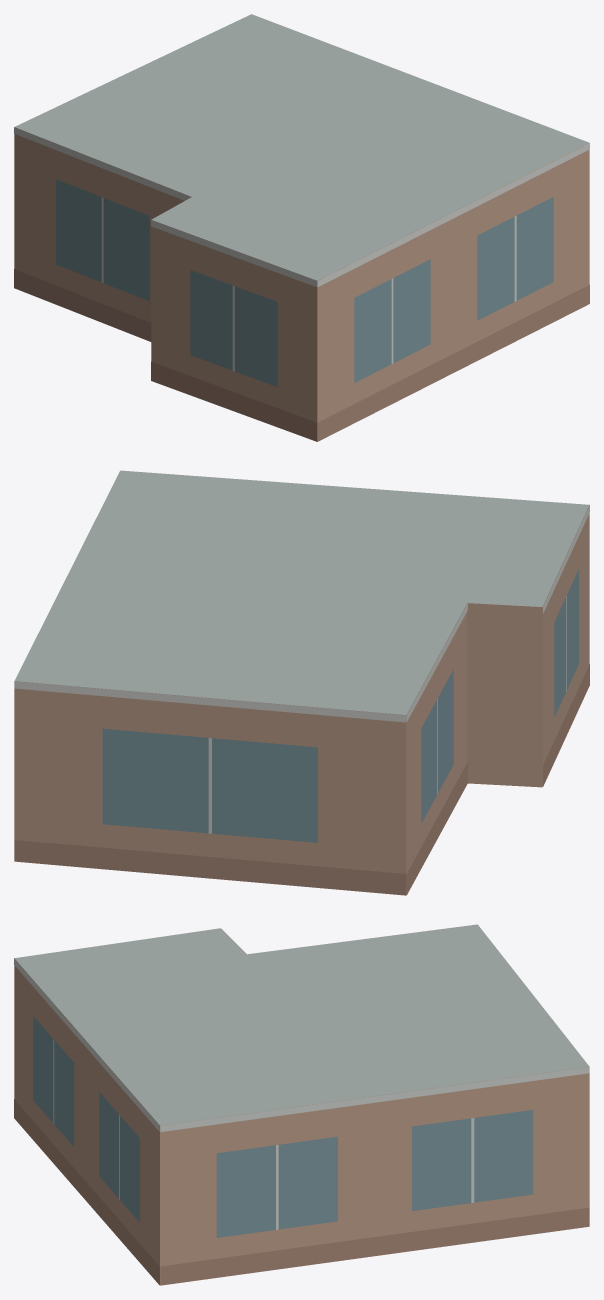
File: survey-upis-33008163.glb
3 views of the same model, one above another, from view 1: azimuth 30°, elevation 25°; view 2: azimuth 150°, elevation 25°; view 3: azimuth 270°, elevation 25° (orthographic). The views are drawn at different scales.
Parts seen in each view (by area): view 1: survey-upis-33008163.tmp; view 2: survey-upis-33008163.tmp; view 3: survey-upis-33008163.tmp.
Boxes of the visible parts, left/top/right/bottom form: survey-upis-33008163.tmp: left=14, top=14, right=589, bottom=441; survey-upis-33008163.tmp: left=14, top=470, right=589, bottom=895; survey-upis-33008163.tmp: left=14, top=924, right=589, bottom=1285.
Size of the model in its own units: 8.25 by 3.05 by 9.96.
